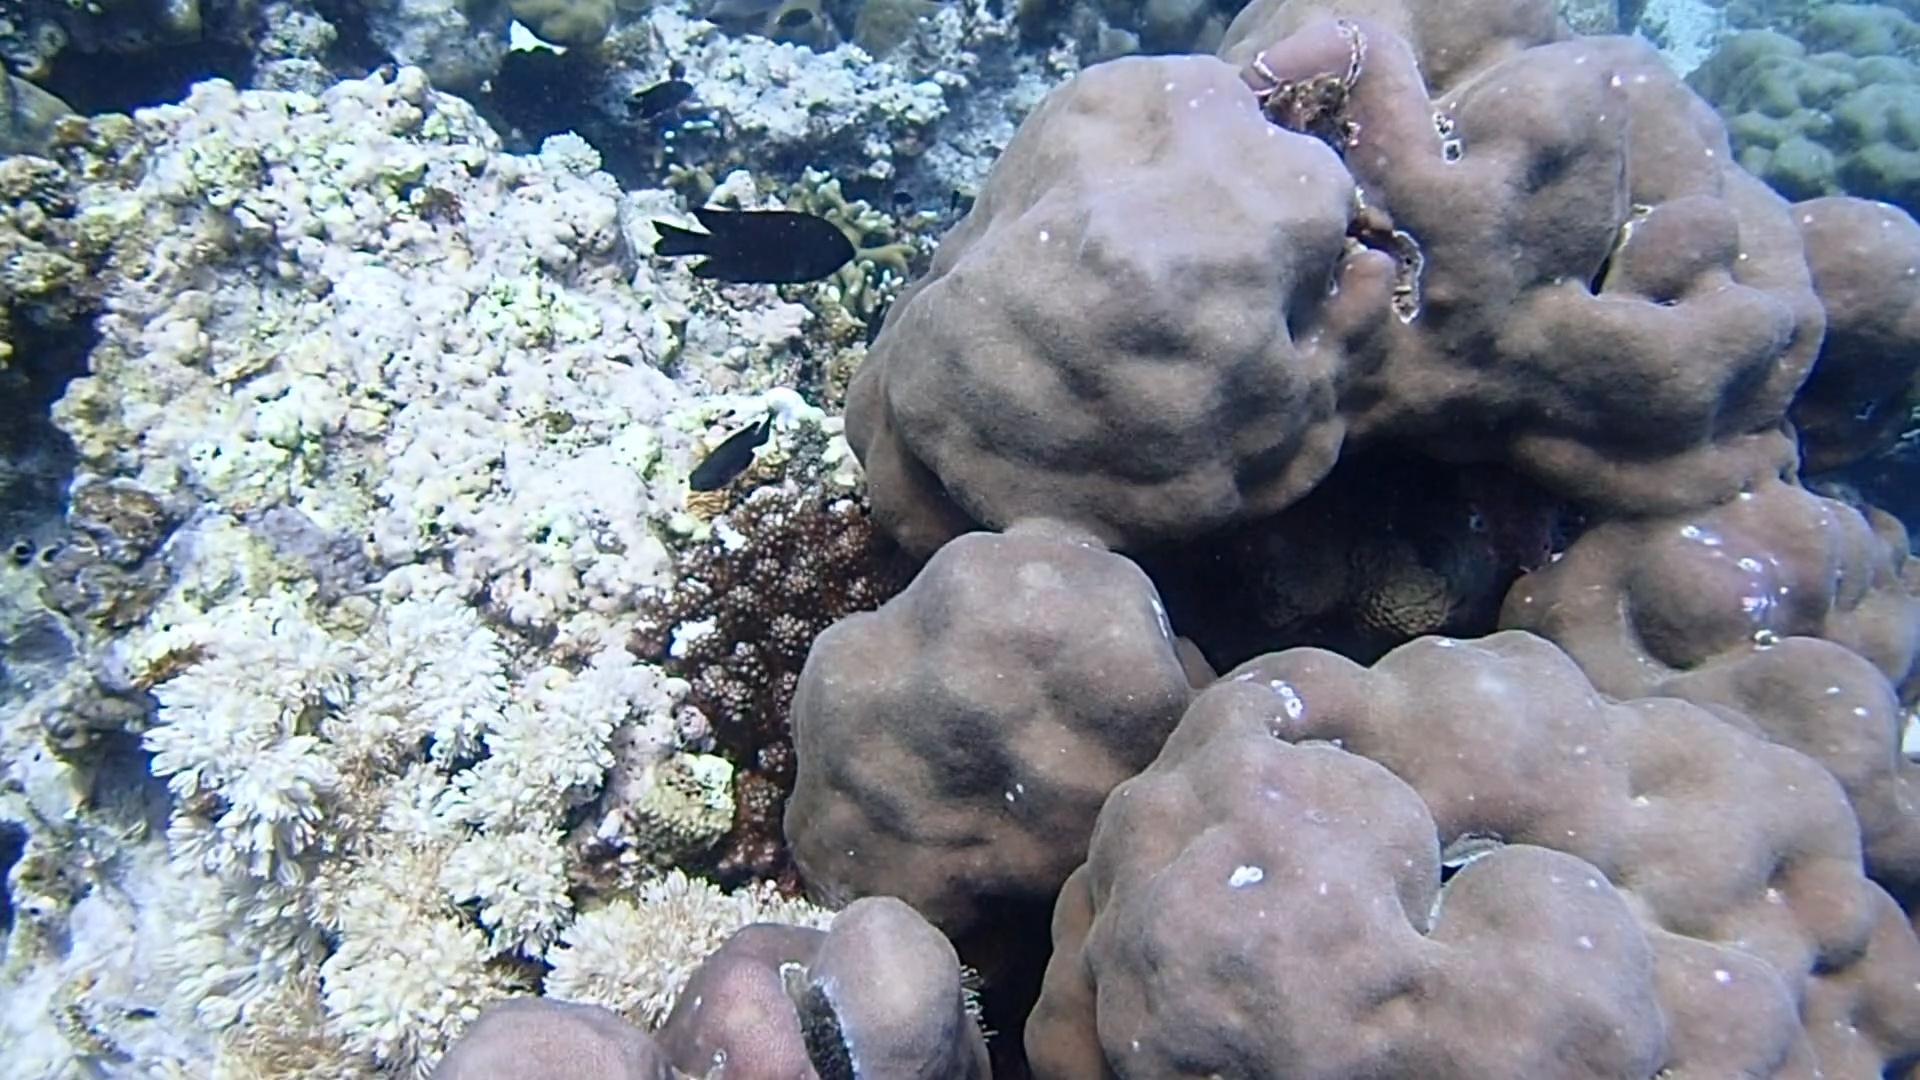Dark Fish: (645, 194, 872, 298), (683, 405, 773, 504), (621, 74, 695, 119)
